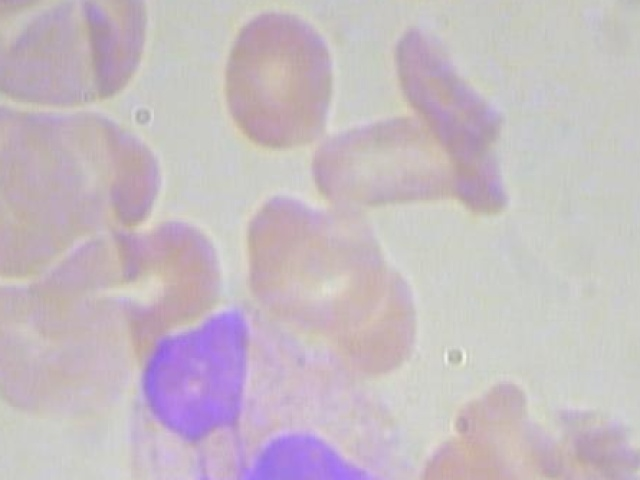WBC: (98, 291, 436, 480)
